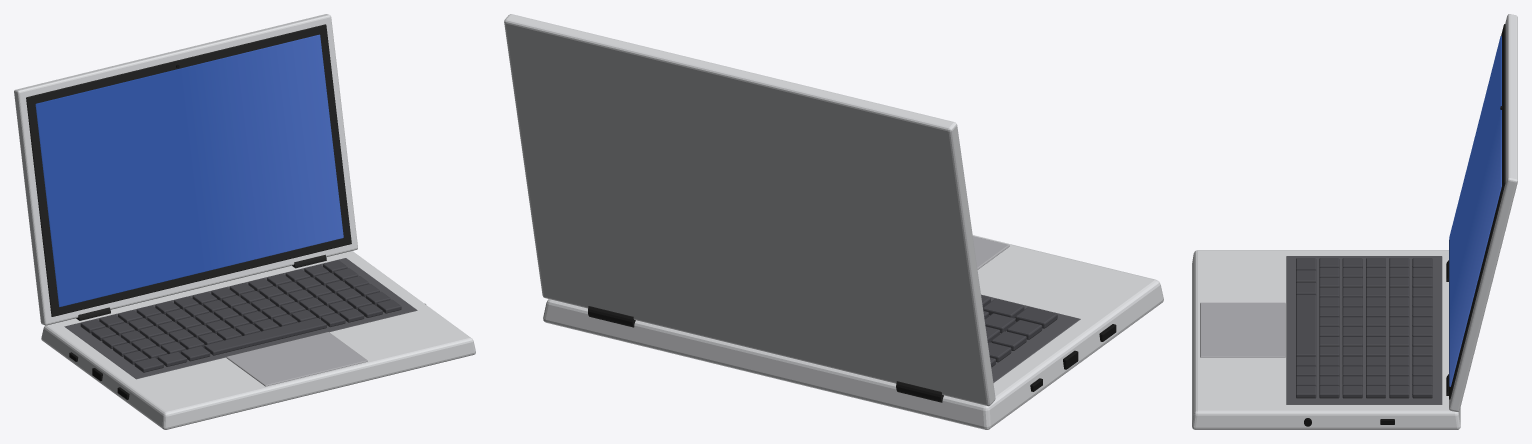
The model's file is laptop.glb.
The picture shows the model from 3 angles, left to right: view 1: azimuth 30°, elevation 25°; view 2: azimuth 150°, elevation 25°; view 3: azimuth 270°, elevation 25°; orthographic projection. The views are drawn at different scales.
Visible parts, largest first — view 1: Display, Chassis, Lid, Bezel, Trackpad, KeyboardWell, Key.073; view 2: Lid, Chassis, KeyboardWell, Trackpad; view 3: Chassis, Display, KeyboardWell, Lid, Trackpad, Bezel, Key.073.
Boxes of the visible parts, <box> form: Display: <box>35,34,343,306</box>; Chassis: <box>41,251,475,429</box>; Lid: <box>14,14,357,325</box>; Bezel: <box>26,24,351,316</box>; Trackpad: <box>226,332,367,386</box>; KeyboardWell: <box>64,258,417,379</box>; Key.073: <box>204,318,326,355</box>; Lid: <box>504,14,995,406</box>; Chassis: <box>543,235,1163,429</box>; KeyboardWell: <box>981,294,1080,382</box>; Trackpad: <box>973,236,1009,269</box>; Chassis: <box>1192,250,1460,429</box>; Display: <box>1449,36,1501,386</box>; KeyboardWell: <box>1286,256,1442,404</box>; Lid: <box>1449,14,1517,411</box>; Trackpad: <box>1200,302,1285,357</box>; Bezel: <box>1449,24,1505,399</box>; Key.073: <box>1296,295,1316,356</box>.
Bounding box in the file's own units: 0.3225 × 0.2295 × 0.2659.
Materials: 8 (1 with a texture image).
